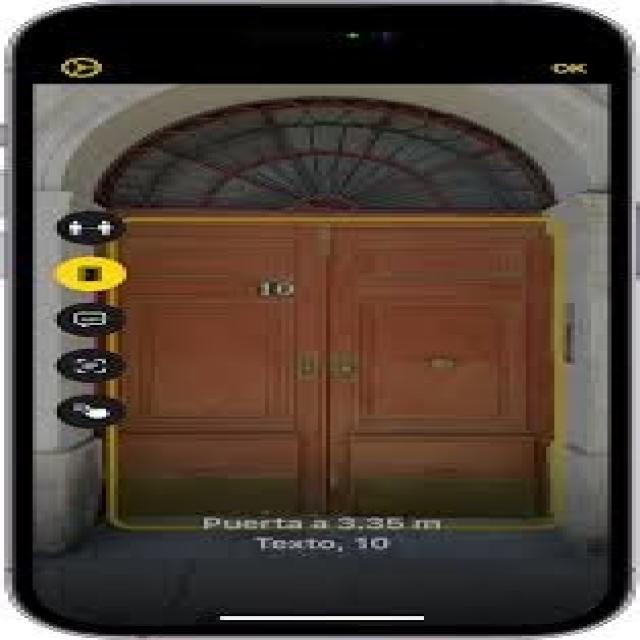door: (106, 215, 558, 528)
